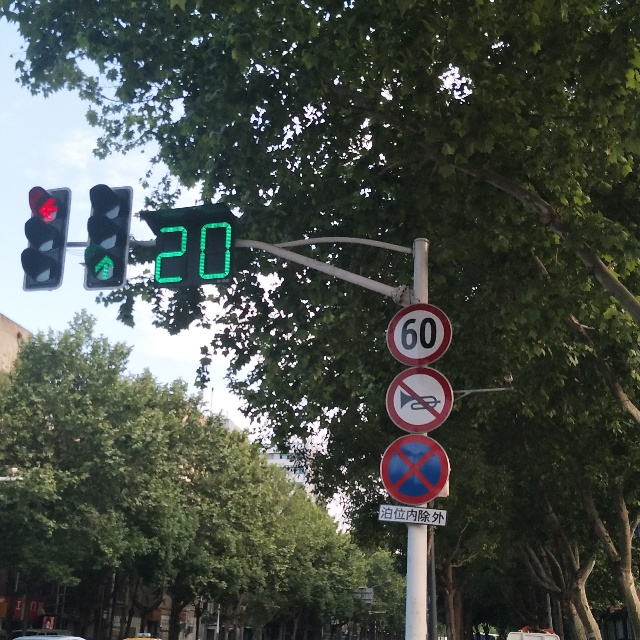nohonk: (394, 373, 451, 425)
stop: (385, 443, 443, 498)
